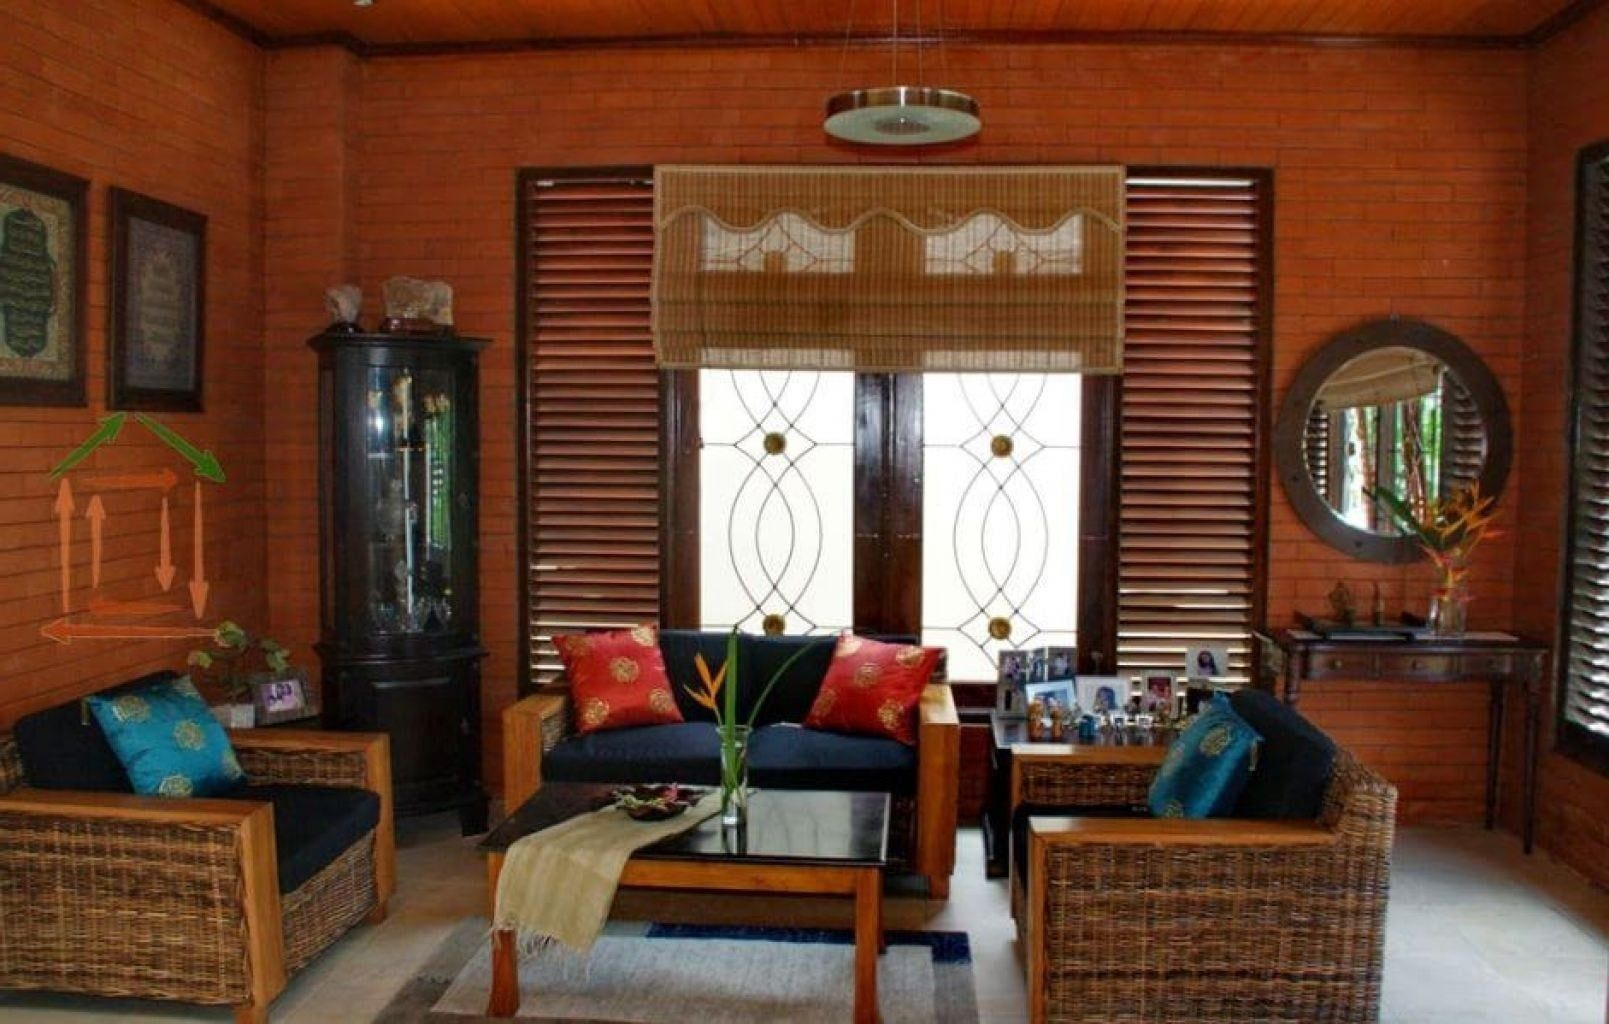Bantal: (86, 684, 244, 799), (551, 623, 692, 728), (806, 631, 929, 741), (1152, 701, 1251, 826)
Meja: (487, 784, 891, 1020)
Sova: (4, 667, 398, 1013), (1011, 693, 1387, 1022), (504, 628, 960, 809)
Tanaman: (1394, 453, 1482, 640), (710, 635, 754, 827)
